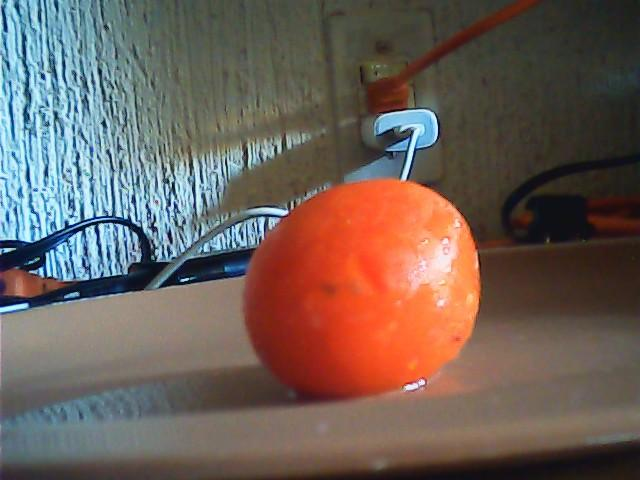maduro: (235, 177, 483, 407)
